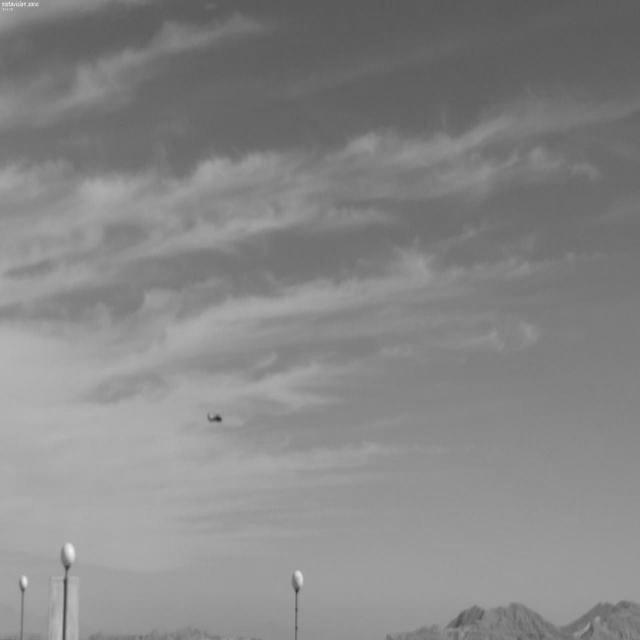helikopter: (191, 385, 256, 453)
